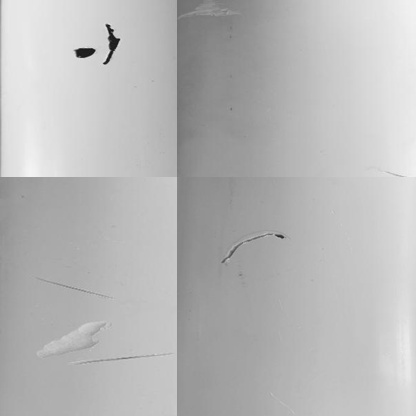fengxi: (216, 228, 288, 267), (103, 24, 126, 65)
kongdong: (71, 43, 94, 61)
sunshang: (31, 319, 107, 355), (34, 271, 113, 299), (70, 354, 168, 367), (178, 5, 239, 25)
